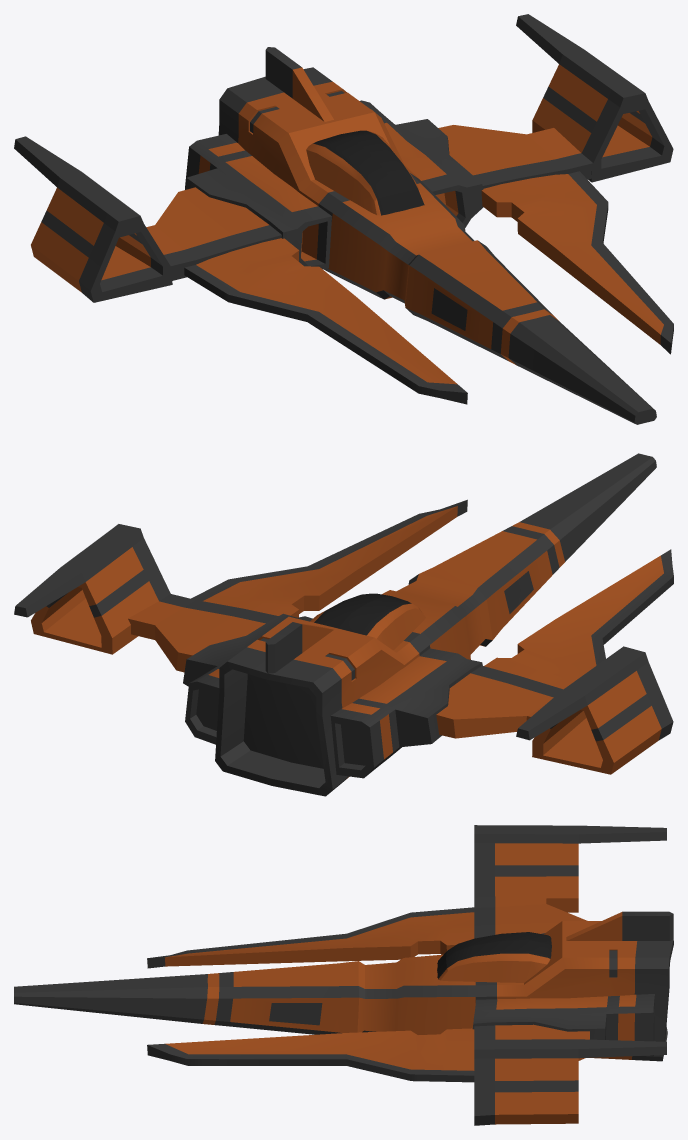
Rendered from ship-panda.glb.
The picture shows the model from 3 angles, top to bottom: view 1: azimuth 30°, elevation 25°; view 2: azimuth 150°, elevation 25°; view 3: azimuth 270°, elevation 25°; orthographic projection. The views are drawn at different scales.
Visible parts, largest first — view 1: Spaceship_RaeTheRedPanda; view 2: Spaceship_RaeTheRedPanda; view 3: Spaceship_RaeTheRedPanda.
Boxes of the visible parts, <box> form: Spaceship_RaeTheRedPanda: <box>14,14,673,424</box>; Spaceship_RaeTheRedPanda: <box>14,453,673,796</box>; Spaceship_RaeTheRedPanda: <box>14,825,673,1125</box>.
Bounding box in the file's own units: 9.95 × 2.35 × 11.17.
